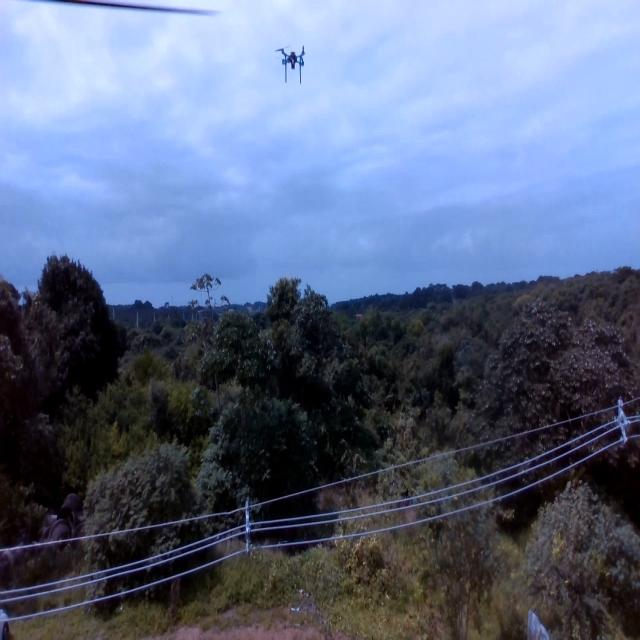-uav-: (263, 31, 318, 97)
